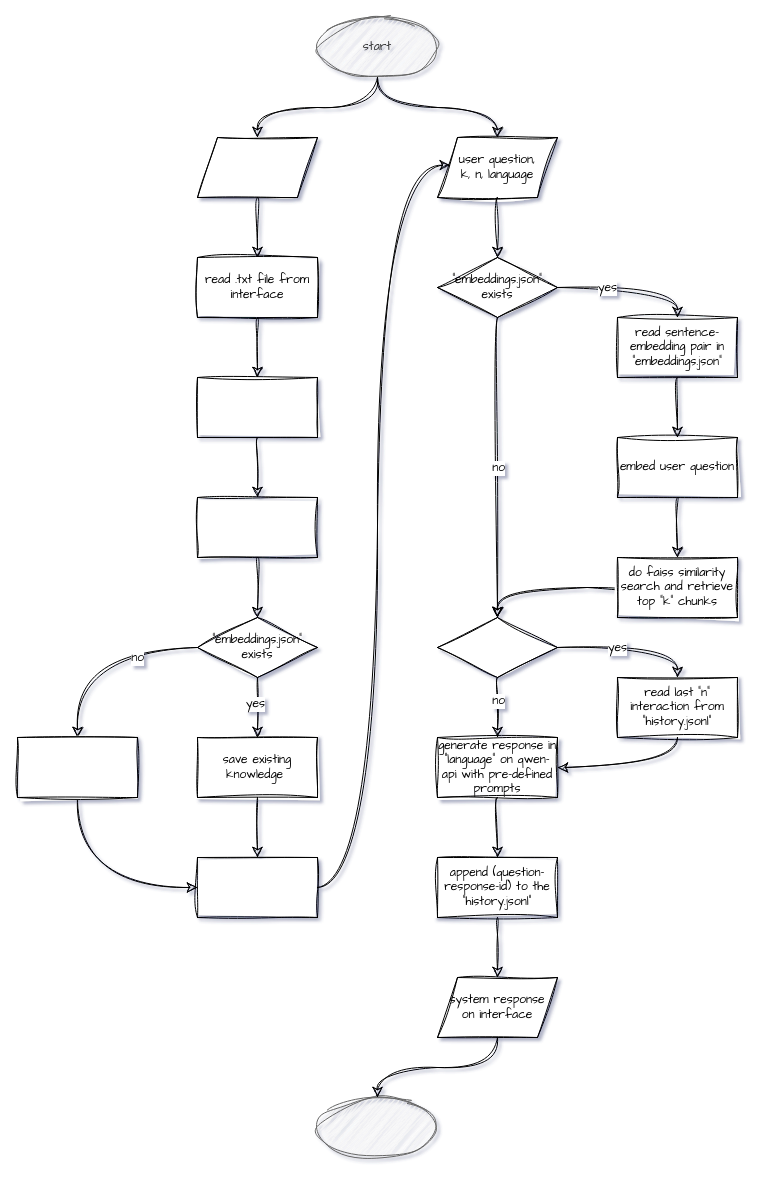
Some shapes in this 761 by 1181 pixel diagram are drawn without their labels. Here are the shapes that lost their labels. From the top down, the centre of each, then its label:
the point at 257,167: .txt file input
the point at 257,407: split sentences line-by-line and add to a list
the point at 257,527: embed each sentence using "intfloat/multilingual-e5-base"
the point at 497,647: "history.jsonl" exists
the point at 77,767: create "embeddings.json" file
the point at 257,887: add new extracted knowledge
the point at 377,1127: end
